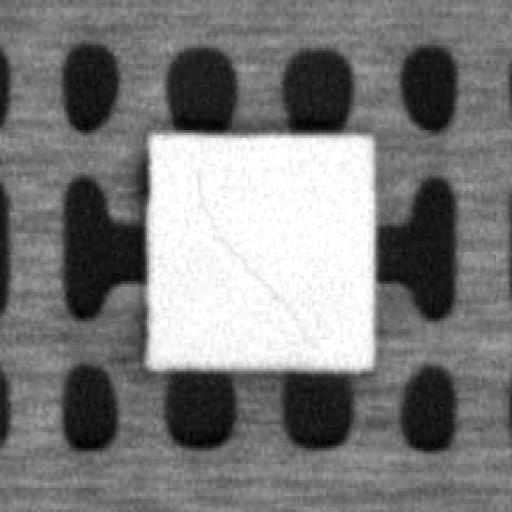DIE_CRACK: (192, 162, 316, 350)
